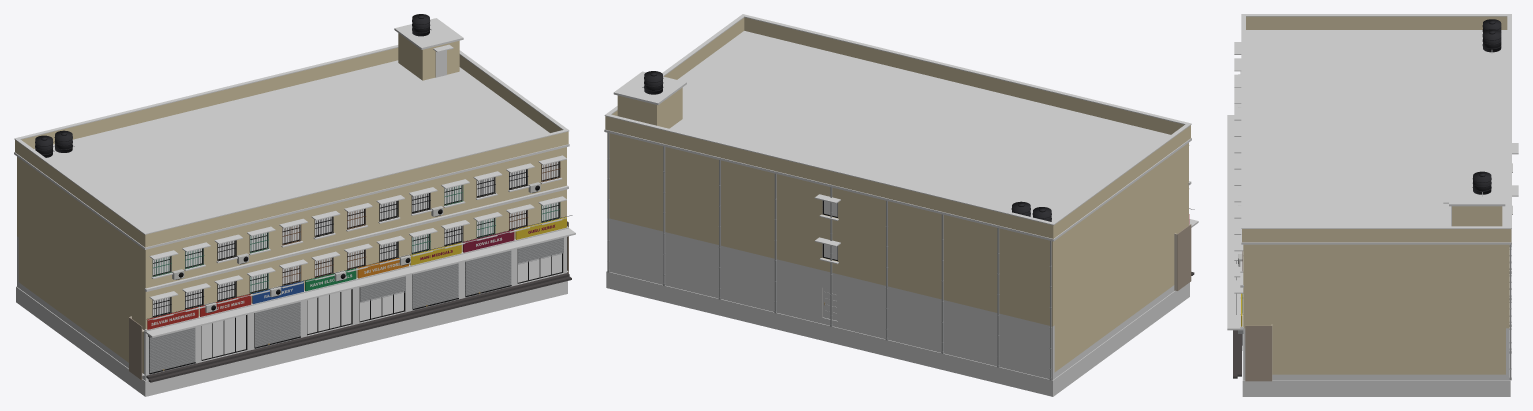
Rendered from commercial_34x18_3.glb.
3 renders of one model, left to right at view 1: azimuth 30°, elevation 25°; view 2: azimuth 150°, elevation 25°; view 3: azimuth 270°, elevation 25°, orthographic. The views are drawn at different scales.
Parts seen in each view (by area): view 1: commercial_34x18_3; view 2: commercial_34x18_3; view 3: commercial_34x18_3.
Boxes of the visible parts, box(x1,y1,x2,y2) form: commercial_34x18_3: box(14, 14, 575, 396); commercial_34x18_3: box(604, 14, 1198, 396); commercial_34x18_3: box(1227, 14, 1518, 396).
Size of the model in its own units: 34.5 by 15.45 by 19.71.
